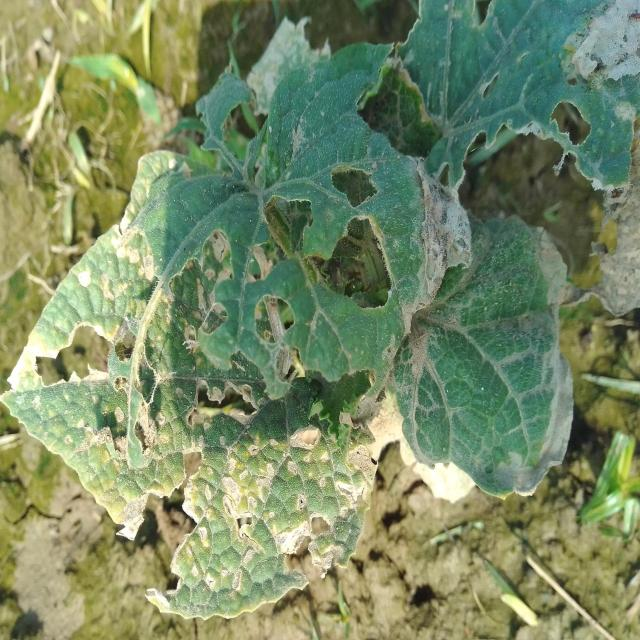cucumber_anthracnose: (14, 57, 380, 615), (406, 230, 596, 486), (396, 8, 636, 182)
